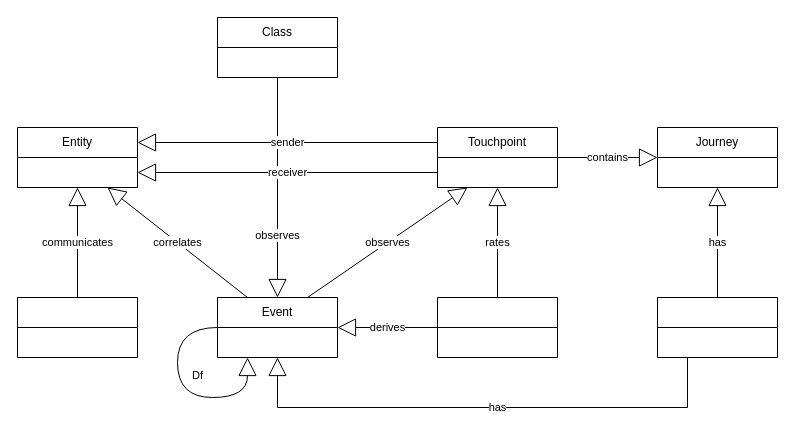
This 795x443 diagram has some shape labels left out. The centre of each missing label's shape, as x and y in pixels:
Channel: [77,327]
Experience: [497,327]
Log: [717,327]
